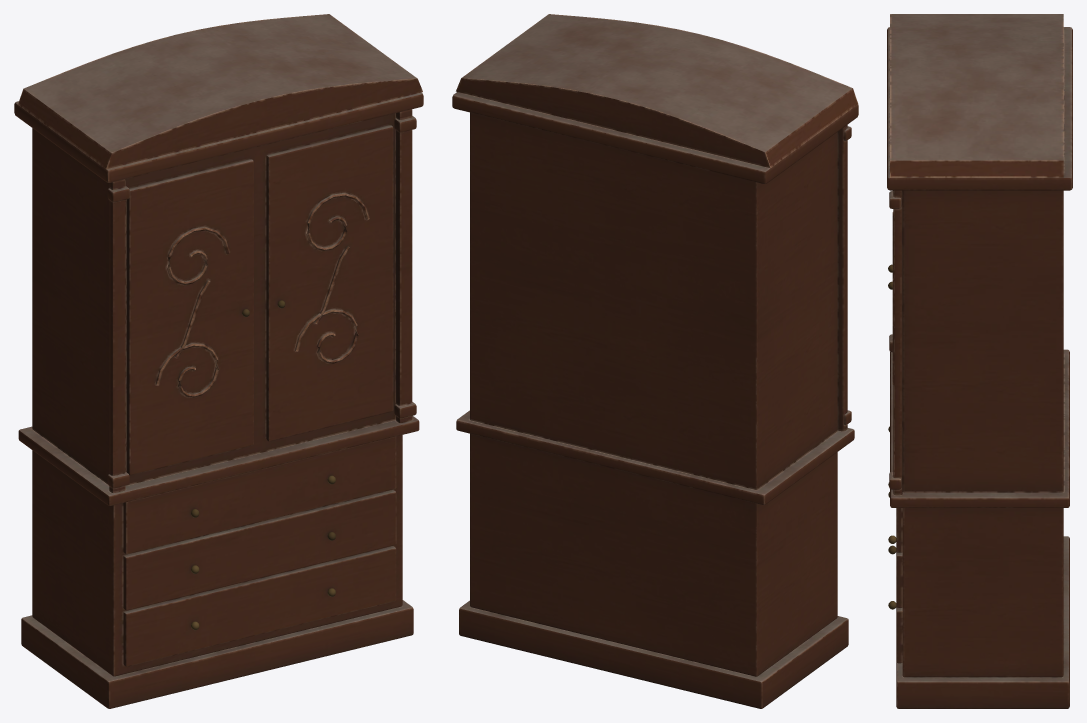
File: wardrobe.glb
The picture shows the model from 3 angles, left to right: view 1: azimuth 30°, elevation 25°; view 2: azimuth 150°, elevation 25°; view 3: azimuth 270°, elevation 25°; orthographic projection.
Parts seen in each view (by area): view 1: wardrobe; view 2: wardrobe; view 3: wardrobe.
Part boxes in pixels (x1,y1,x2,y2): wardrobe: [14, 14, 423, 708]; wardrobe: [452, 14, 858, 708]; wardrobe: [887, 14, 1072, 708].
Size of the model in its own units: 1.16 by 2.02 by 0.6.
Materials: 1 (1 with a texture image).
